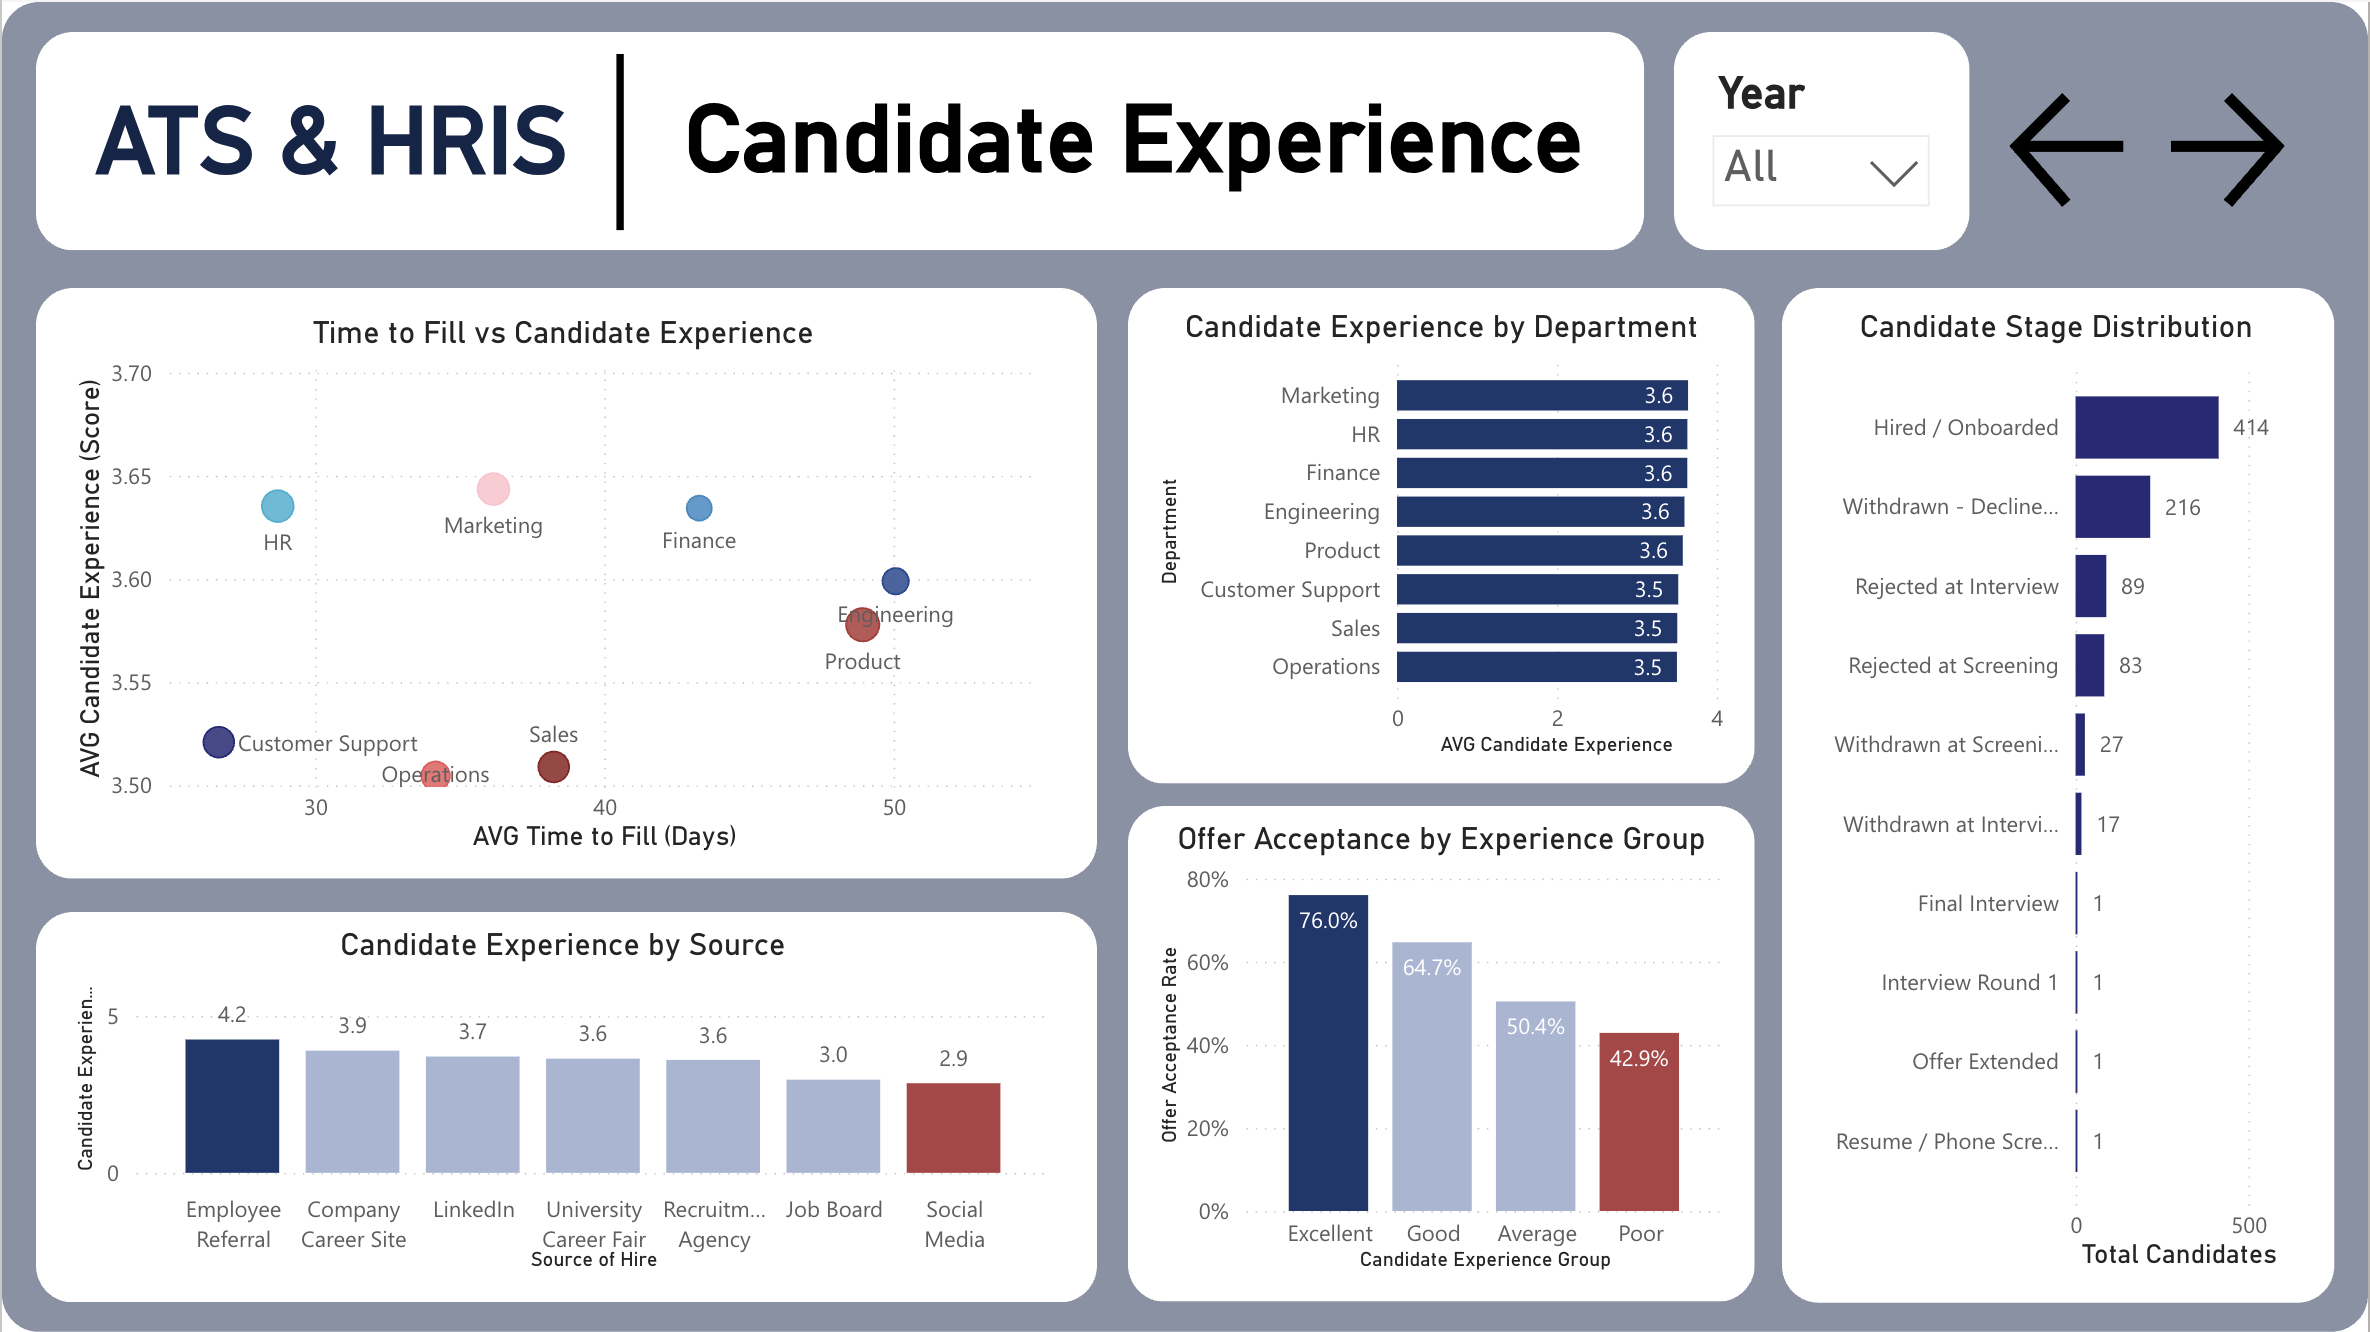

This screenshot's page, from the dashboard's own definition file:
{"tool":"powerbi","page":{"name":"Candidate Experience","canvas":[1280,720],"ordinal":2},"visuals":[{"type":"shape","box":[0,0,1280,719.4],"z":0},{"type":"shape","box":[18.1,16.7,870,118.1],"z":1000},{"type":"shape","box":[18.1,154.3,574,319.7],"z":2000},{"type":"textbox","box":[45.8,47,279.6,77.5],"z":3000},{"type":"shape","box":[287.3,28,95.3,95.3],"z":4000},{"type":"textbox","box":[364.1,45.9,512.8,77.8],"z":5000},{"type":"actionButton","box":[1165.6,36.9,73.7,86.4],"z":6000},{"type":"actionButton","box":[1081.7,36.9,73.7,86.4],"z":7000},{"type":"shape","box":[608.7,154.3,339.1,268.2],"z":8000},{"type":"shape","box":[904.8,16.7,159.8,118.1],"z":9000},{"type":"scatterChart","title":"Time to Fill vs Candidate Experience","fields":{"Series":["ats_recruitment_data.department"],"Size":["ats_recruitment_data.total_hires"],"X":["ats_recruitment_data.avg_time_to_fill"],"Y":["ats_recruitment_data.avg_candidate_experience"]},"box":[34.7,170.9,537.9,293.2],"z":10000},{"type":"shape","box":[18.1,492,574,211.2],"z":11000},{"type":"columnChart","title":"Candidate Experience by Source","fields":{"Category":["ats_recruitment_data.source_of_hire"],"Y":["ats_recruitment_data.avg_candidate_experience"]},"box":[34.7,501.7,537.9,189],"z":12000},{"type":"barChart","title":"Candidate Experience by Department","fields":{"Category":["ats_recruitment_data.department"],"Y":["ats_recruitment_data.avg_candidate_experience"]},"box":[621.2,168.2,315.5,244.6],"z":13000},{"type":"shape","box":[608.7,435,339.1,268.2],"z":14000},{"type":"columnChart","title":"Offer Acceptance by Experience Group","fields":{"Category":["ats_recruitment_data.candidate_experience_group"],"Y":["ats_recruitment_data.offer_acceptance_rate"]},"box":[621.2,444.7,315.5,246],"z":15000},{"type":"shape","box":[963.1,154.3,298.8,549],"z":16000},{"type":"barChart","title":"Candidate Stage Distribution","fields":{"Category":["ats_recruitment_data.candidate_stage"],"Y":["ats_recruitment_data.total_candidates"]},"box":[974.2,168.2,275.2,522.6],"z":17000},{"type":"slicer","fields":{"Values":["date.year"]},"box":[915.9,33.4,137.6,90.3],"z":18000}]}

Visuals, with their boxes in screenshot pixels (x1, y1, x2, y2), scaled from the page's 1280x720 canvas onto the 2370x1332 screenshot:
shape: 0:0:2369:1331
shape: 34:31:1644:249
shape: 34:285:1096:877
textbox: 85:87:602:230
shape: 532:52:708:228
textbox: 674:85:1624:229
actionButton: 2158:68:2295:228
actionButton: 2003:68:2139:228
shape: 1127:285:1755:782
shape: 1675:31:1971:249
"Time to Fill vs Candidate Experience" scatterChart: 64:316:1060:859
shape: 34:910:1096:1301
"Candidate Experience by Source" columnChart: 64:928:1060:1278
"Candidate Experience by Department" barChart: 1150:311:1734:764
shape: 1127:805:1755:1301
"Offer Acceptance by Experience Group" columnChart: 1150:823:1734:1278
shape: 1783:285:2336:1301
"Candidate Stage Distribution" barChart: 1804:311:2313:1278
slicer - date.year: 1696:62:1951:229
